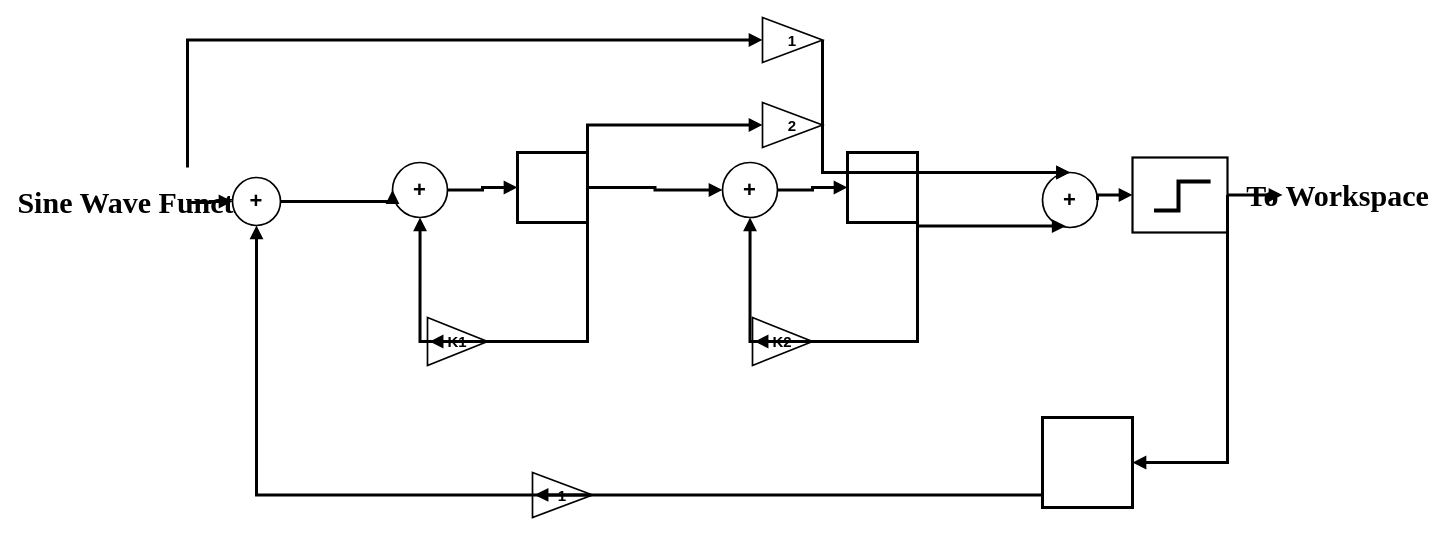
This 1446x536 diagram has some shape labels left out. The centre of each missing label's shape, as x and y in pixels:
DWA: (x=1087, y=462)
Unit Delay: (x=552, y=187)
Unit Delay1: (x=882, y=187)
